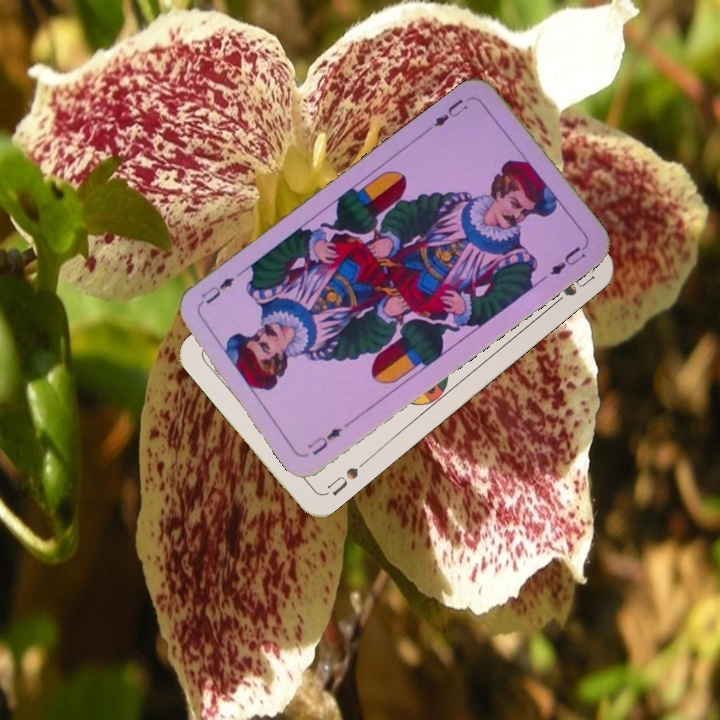EU: (426, 92, 476, 133), (304, 423, 344, 458)
SU: (320, 456, 370, 499)
